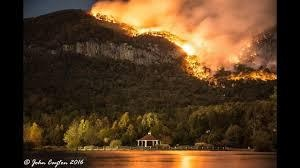fire: (100, 5, 269, 84), (24, 120, 43, 141)
